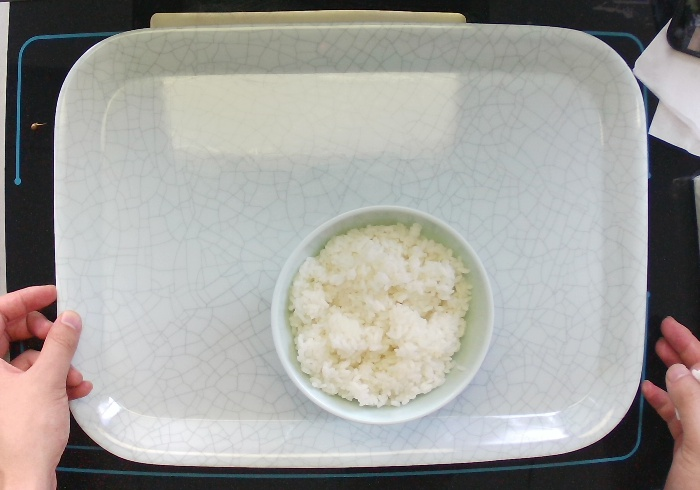JYsf-Fan_Wan: (266, 199, 499, 429)
